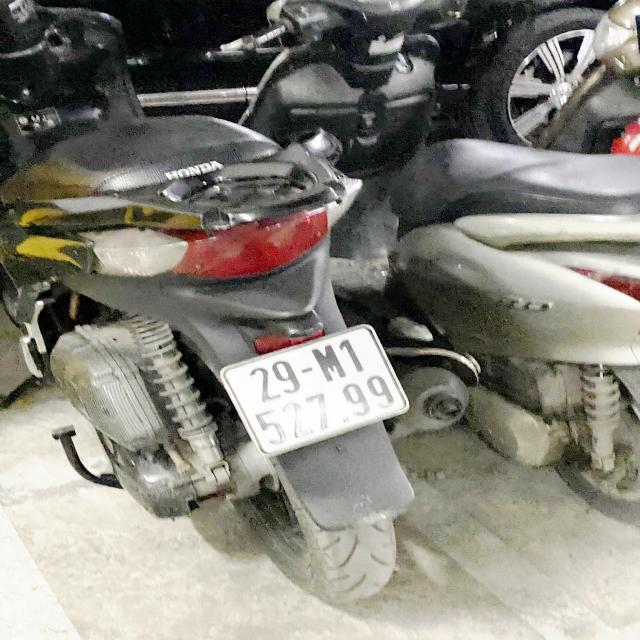license_plate: (220, 321, 416, 458)
